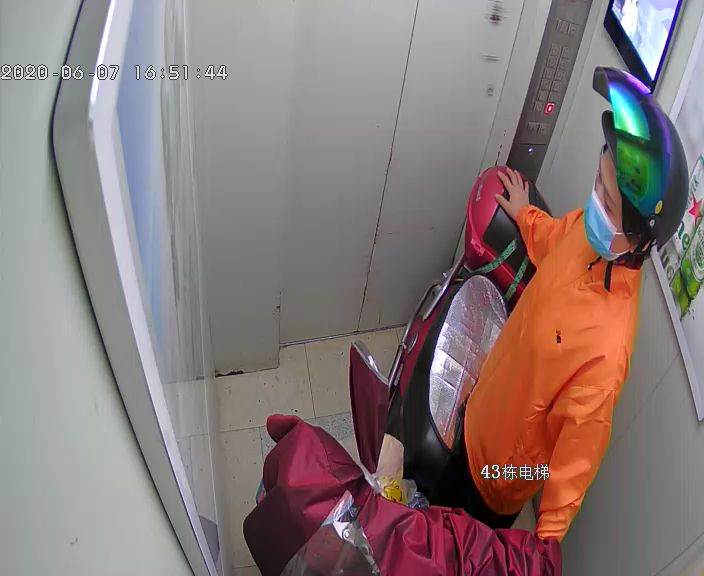Electric-bicycle: (399, 171, 546, 485)
